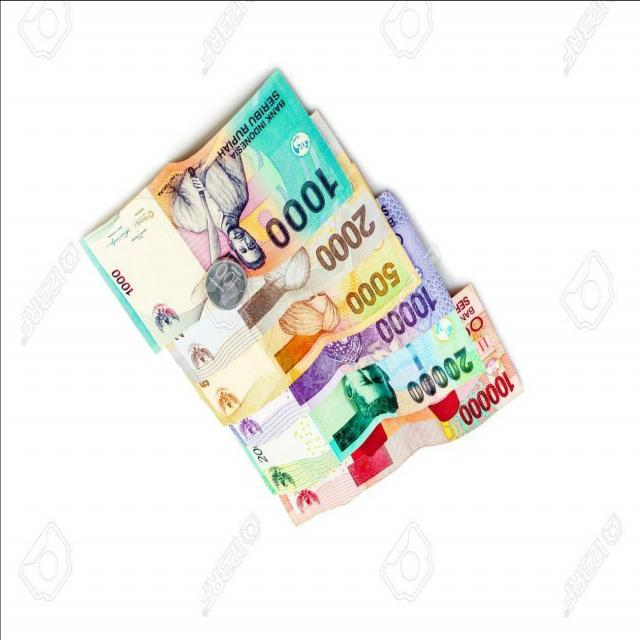1000IndonesianRupiah: (74, 88, 344, 227)
